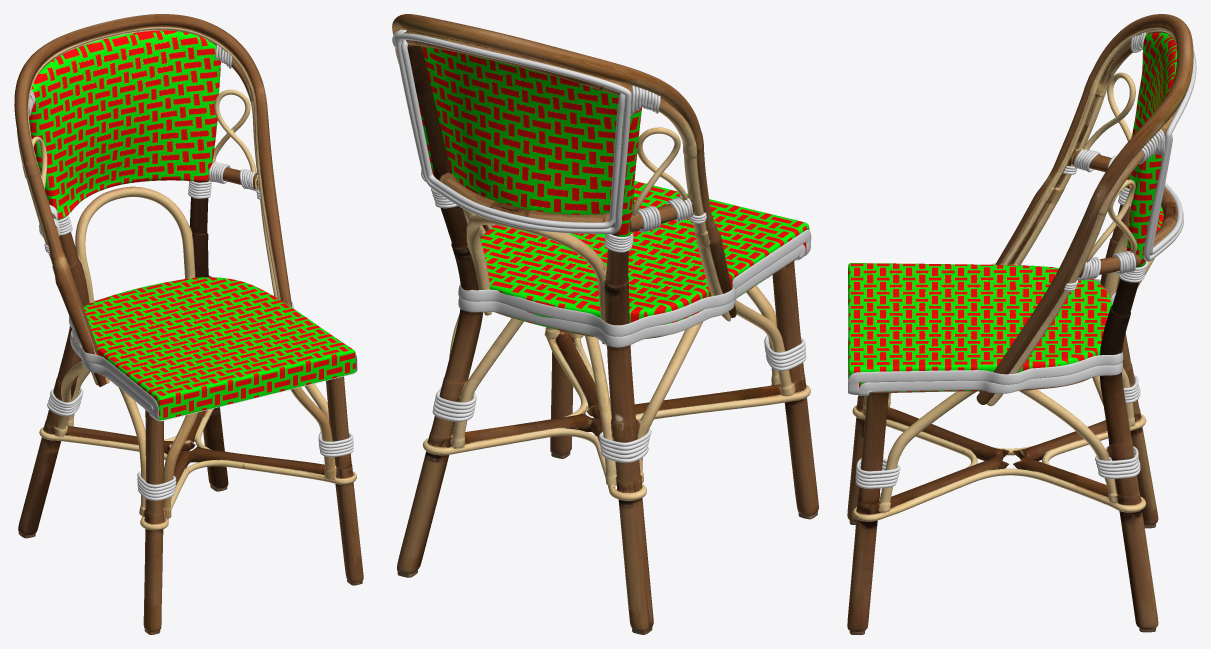
The model's file is ogive-damier.glb.
The picture shows the model from 3 angles, left to right: view 1: azimuth 30°, elevation 25°; view 2: azimuth 150°, elevation 25°; view 3: azimuth 270°, elevation 25°; orthographic projection. The views are drawn at different scales.
Parts seen in each view (by area): view 1: mesh_tressage, mesh_structure, mesh_laniere; view 2: mesh_structure, mesh_tressage, mesh_laniere; view 3: mesh_structure, mesh_tressage, mesh_laniere.
Part boxes in pixels (left/top/right/bottom): mesh_tressage: left=29, top=30, right=355, bottom=420; mesh_structure: left=14, top=14, right=363, bottom=634; mesh_laniere: left=14, top=44, right=357, bottom=500; mesh_structure: left=392, top=14, right=818, bottom=634; mesh_tressage: left=416, top=46, right=809, bottom=334; mesh_laniere: left=392, top=29, right=811, bottom=462; mesh_structure: left=847, top=14, right=1193, bottom=634; mesh_tressage: left=848, top=32, right=1177, bottom=391; mesh_laniere: left=848, top=32, right=1196, bottom=488.
Size of the model in its own units: 0.481 by 0.9003 by 0.5384.
Materials: 2 (2 with a texture image).
